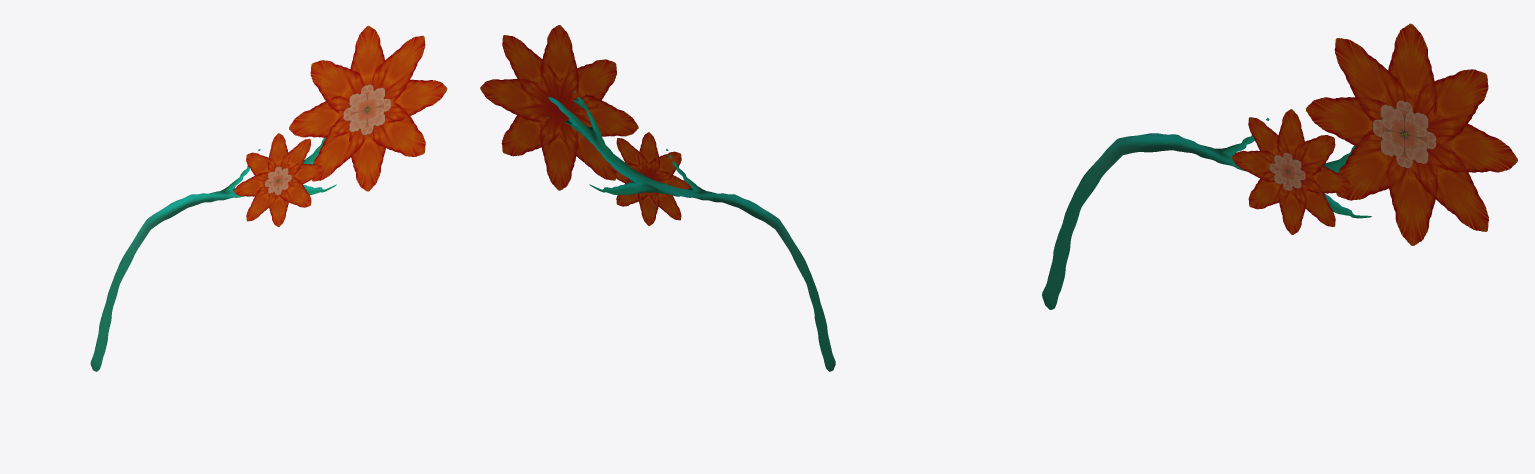
Rendered from OrangeFlower_03.fbx.
The picture shows the model from 3 angles, left to right: view 1: azimuth 30°, elevation 25°; view 2: azimuth 150°, elevation 25°; view 3: azimuth 330°, elevation 25°; orthographic projection. The views are drawn at different scales.
Visible parts, largest first — view 1: Green Stem002; view 2: Green Stem002; view 3: Green Stem002.
Part boxes in pixels (x1,y1,x2,y2): Green Stem002: (90,25,447,371); Green Stem002: (480,25,835,371); Green Stem002: (1042,23,1517,309).
Bounding box in the file's own units: 8.17 × 6.9 × 0.0938.
